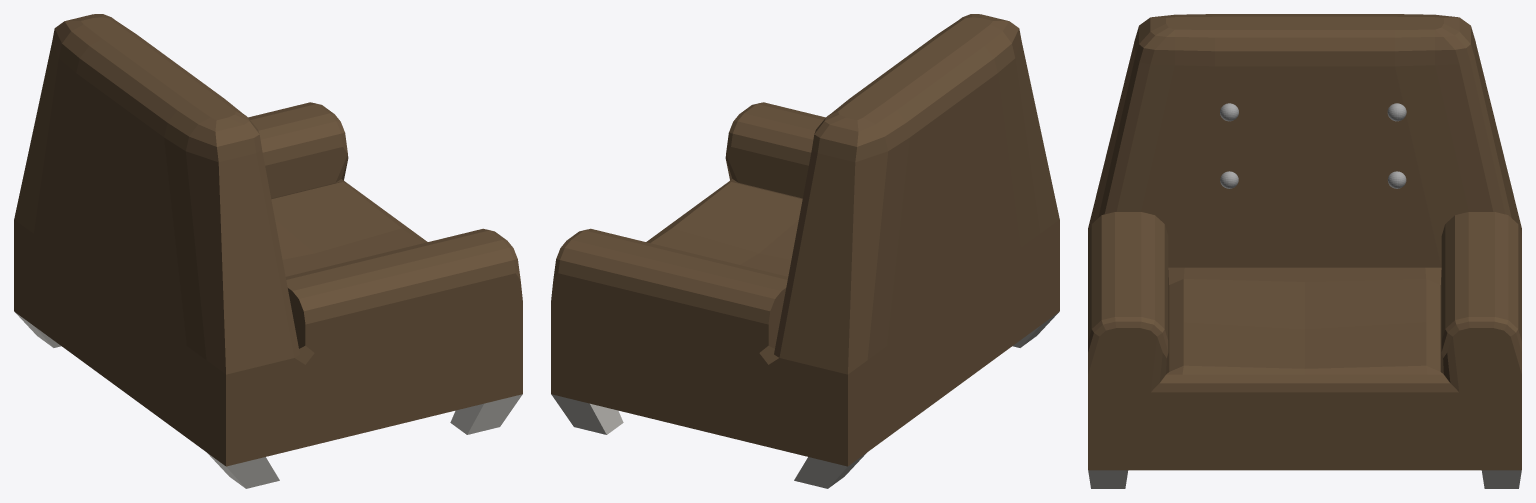
The model's file is küçükkanepe1.fbx.
3 views of the same model, side by side, from view 1: azimuth 30°, elevation 25°; view 2: azimuth 150°, elevation 25°; view 3: azimuth 270°, elevation 25° (orthographic). The views are drawn at different scales.
Visible parts, largest first — view 1: Cube; view 2: Cube; view 3: Cube, Sphere.
Boxes of the visible parts, x1=… form: Cube: x1=14, y1=14, x2=522, y2=488; Cube: x1=551, y1=14, x2=1059, y2=488; Cube: x1=1088, y1=14, x2=1521, y2=488; Sphere: x1=1220, y1=103, x2=1406, y2=188.
Bounding box in the file's own units: 208 × 228 × 257.
